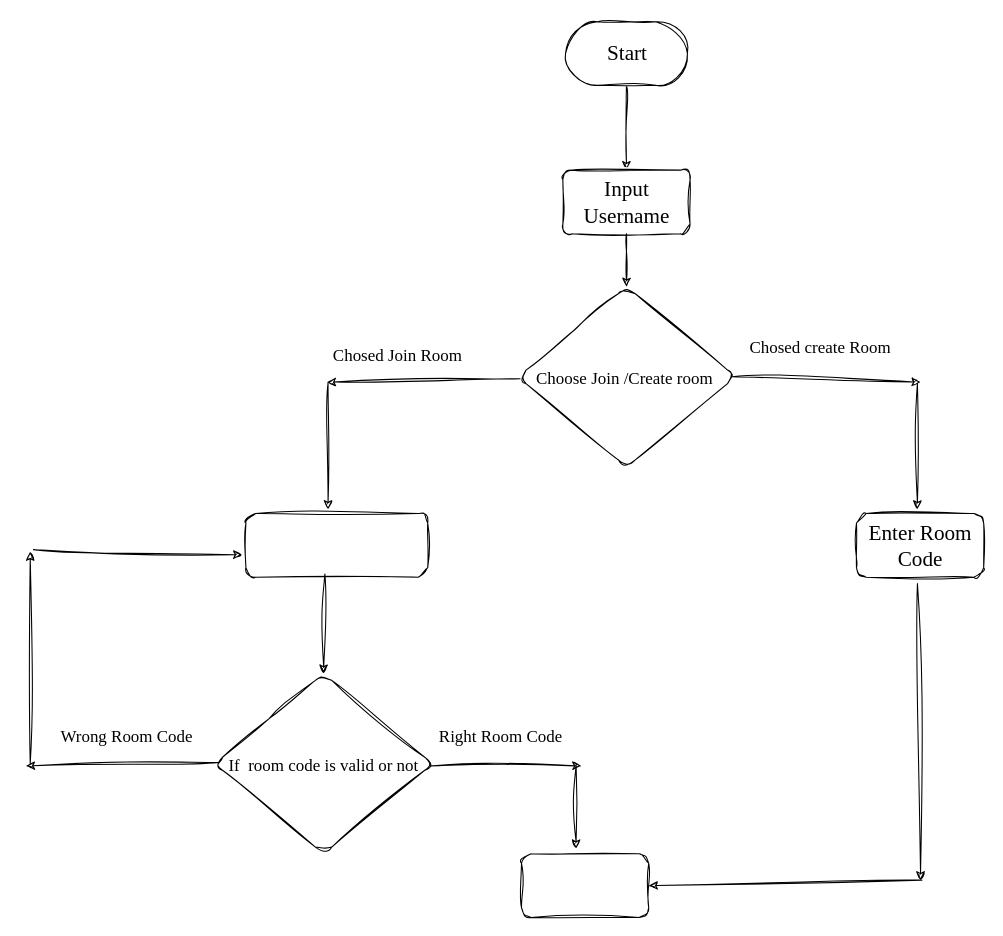
Some shapes in this 1003 by 936 pixel diagram are drawn without their labels. The shapes that lost their labels are listed below. From the top down, each one's box as (x1, y1, x2, y2) in pixels, then its label:
(245, 513, 428, 577): Input Valid Room Code to Jion
(520, 853, 649, 917): Joined the Room
